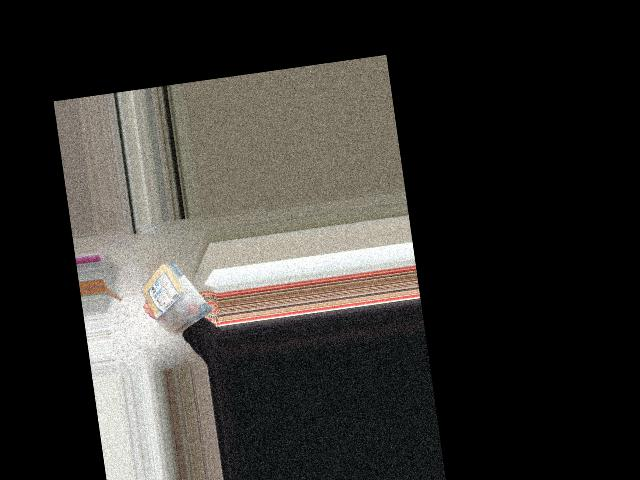cheese: (132, 253, 219, 342)
